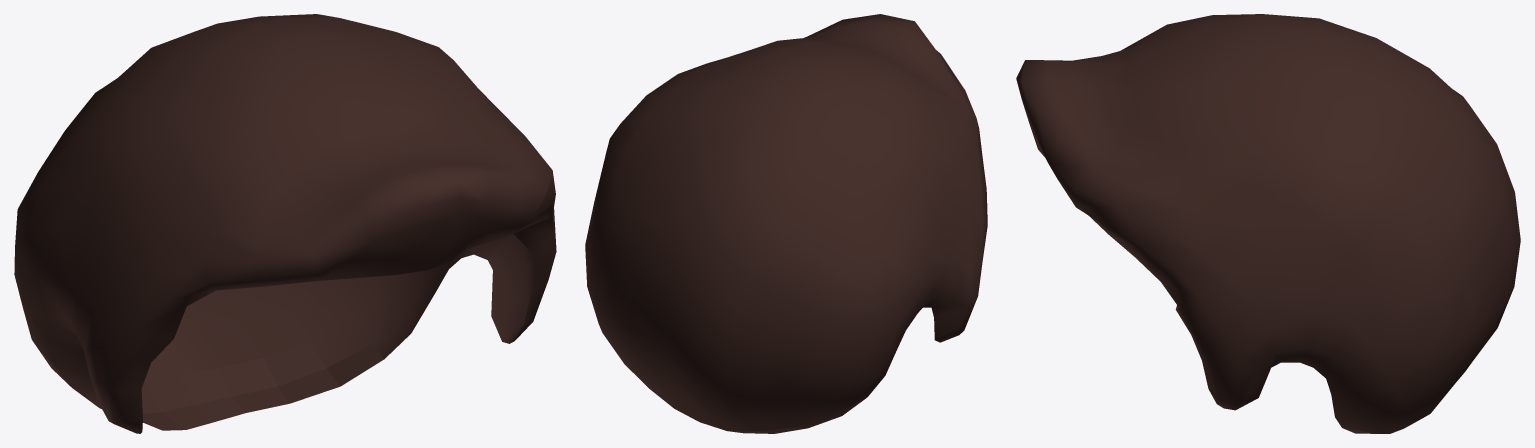
The model's file is Hair_012.glb.
3 views of the same model, side by side, from view 1: azimuth 30°, elevation 25°; view 2: azimuth 150°, elevation 25°; view 3: azimuth 270°, elevation 25° (orthographic). The views are drawn at different scales.
Parts seen in each view (by area): view 1: Hair_012; view 2: Hair_012; view 3: Hair_012.
Boxes of the visible parts, x1=… form: Hair_012: x1=14, y1=14, x2=556, y2=433; Hair_012: x1=585, y1=14, x2=987, y2=433; Hair_012: x1=1016, y1=14, x2=1520, y2=433.
Size of the model in its own units: 0.4467 by 0.4015 by 0.4881.
Materials: 1 (1 with a texture image).
